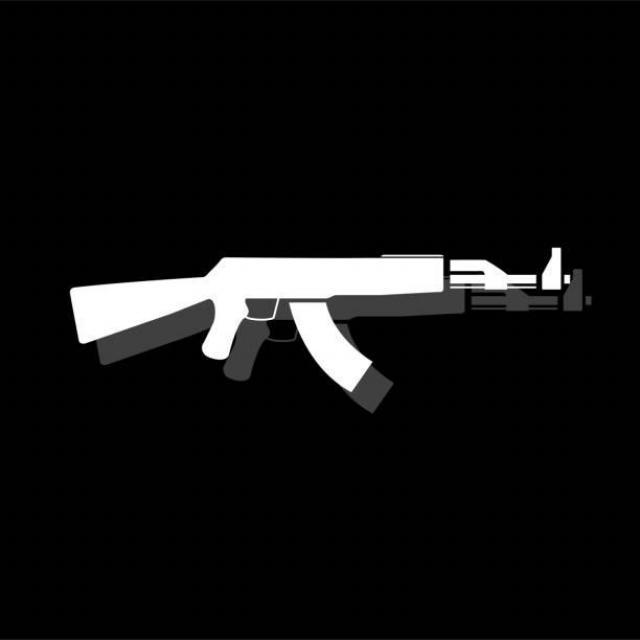weapon: (66, 244, 594, 417)
